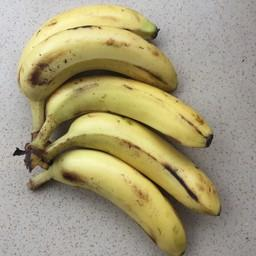Good_banana: (59, 115, 223, 215), (50, 150, 189, 256), (44, 75, 212, 145), (16, 28, 183, 87), (23, 3, 156, 46)
